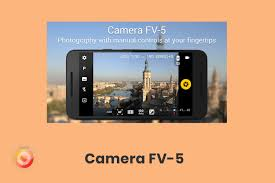camera: (178, 79, 191, 90)
